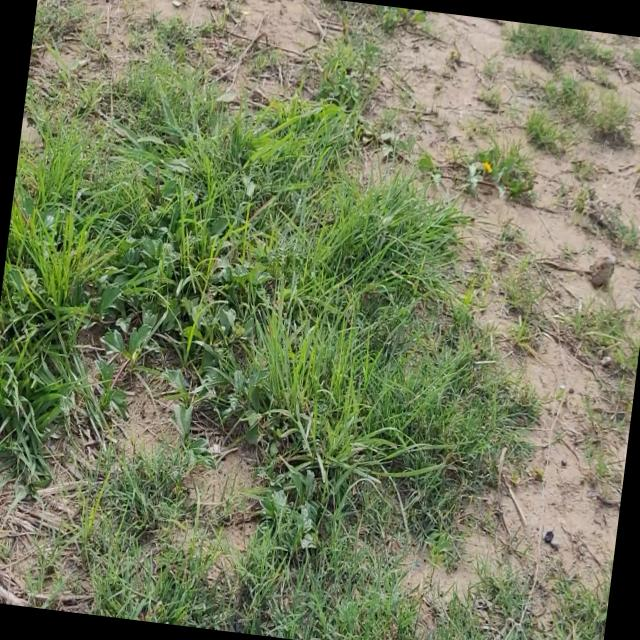grass: (0, 51, 538, 640)
white-sand: (368, 12, 640, 352), (508, 334, 619, 575), (228, 0, 341, 81)
